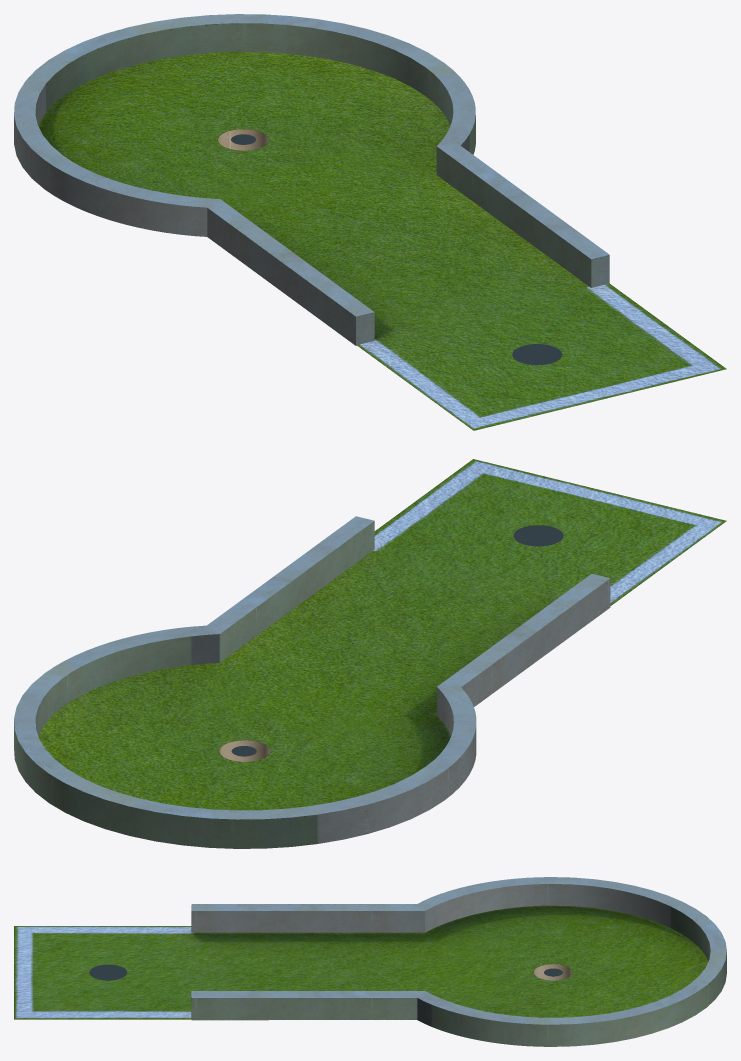
Rendered from primer-campo.glb.
The picture shows the model from 3 angles, top to bottom: view 1: azimuth 30°, elevation 25°; view 2: azimuth 150°, elevation 25°; view 3: azimuth 270°, elevation 25°; orthographic projection. The views are drawn at different scales.
Visible parts, largest first — view 1: circuito-suelo, paredes, punto-pelota, foso; view 2: circuito-suelo, paredes, punto-pelota, foso; view 3: circuito-suelo, paredes, punto-pelota, foso.
Part boxes in pixels (left/top/right/bottom): circuito-suelo: left=38, top=52, right=726, bottom=430; paredes: left=14, top=14, right=609, bottom=345; punto-pelota: left=512, top=344, right=562, bottom=365; foso: left=218, top=129, right=268, bottom=150; circuito-suelo: left=38, top=459, right=726, bottom=810; paredes: left=14, top=516, right=610, bottom=848; punto-pelota: left=513, top=525, right=563, bottom=546; foso: left=219, top=740, right=270, bottom=761; circuito-suelo: left=14, top=905, right=708, bottom=1019; paredes: left=191, top=877, right=726, bottom=1046; punto-pelota: left=89, top=964, right=127, bottom=980; foso: left=533, top=964, right=572, bottom=980.
Bounding box in the file's own units: 2.2 × 0.4023 × 4.5.
4 materials, 3 textured.
